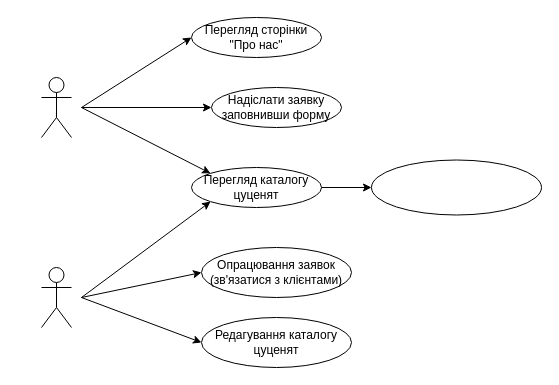
Image size: 559x385. Some labels were removed from this diagram. The box of each missing label's shape, as (x1, y1, x2, y2) in pixels:
Адміністратор: (40, 266, 72, 328)
Користувач: (40, 76, 72, 138)
Перегляд інформації про цуценя натиснувши на картку: (370, 159, 542, 215)
